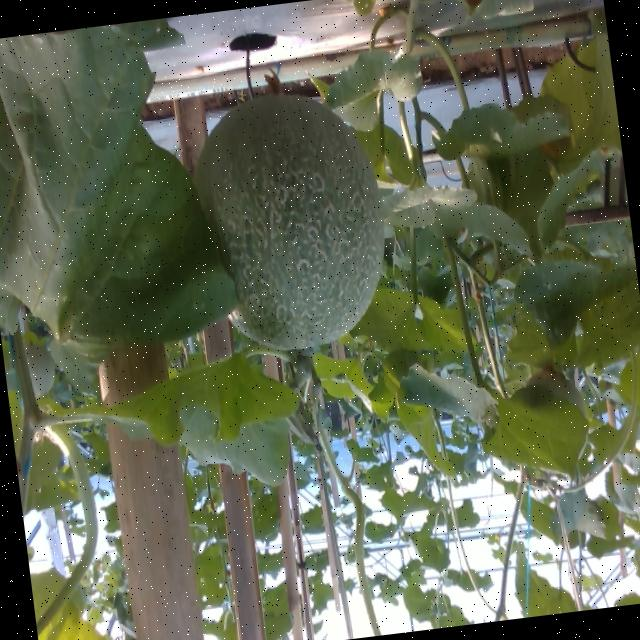melon: (192, 94, 382, 348)
